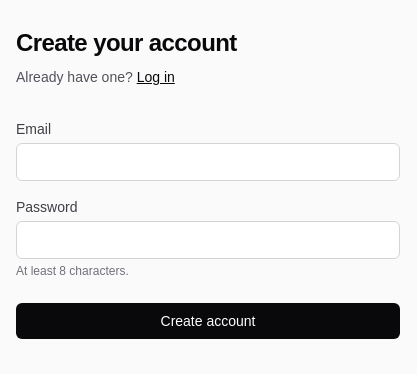
it: RegisterPage › shows the server error message when registration fails
Type "ada@example.com" into the field labelled "Email" at (208, 162), box [16,143,400,181]
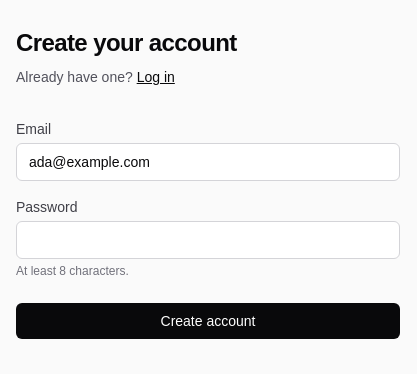
Type "correct-horse-battery" into the password field labelled "Password" at (208, 240), box [16,221,400,259]
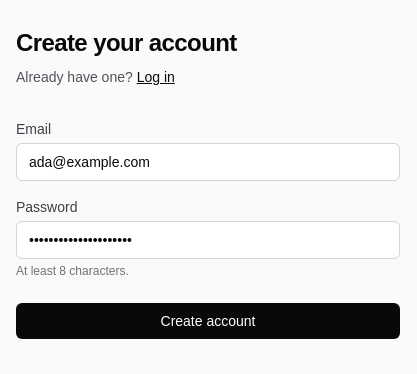
Click the button "Create account" at (208, 321), box [16,303,400,339]
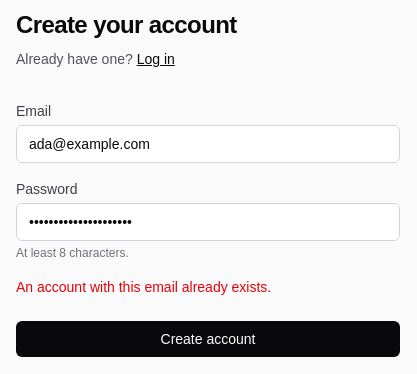
Result: the message reads "An account with this email already exists." at [16,279,271,295]
